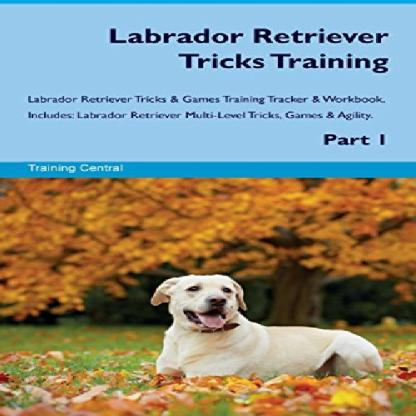dog: (150, 270, 381, 381)
